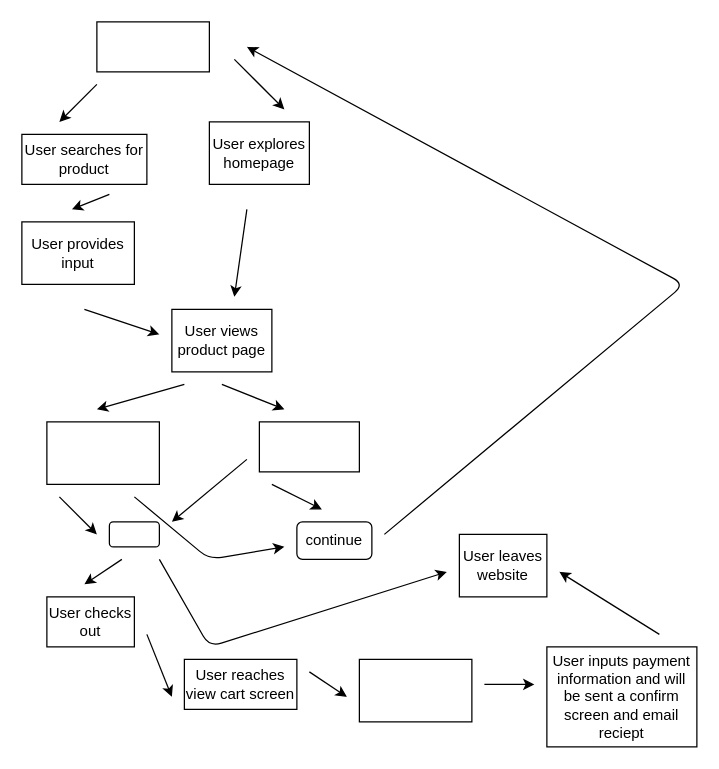
Image size: 719x769. Some labels were removed from this diagram. The shapes that lost their labels are listed below. From the top down, each one's box as (x1, y1, x2, y2) in pixels, then its label:
(96, 21, 209, 72): User enters website
(46, 421, 159, 484): User has choice to continue or stop
(258, 421, 359, 472): User adds item to cart
(108, 521, 159, 547): stop
(358, 658, 472, 722): User reaches View payment screen
